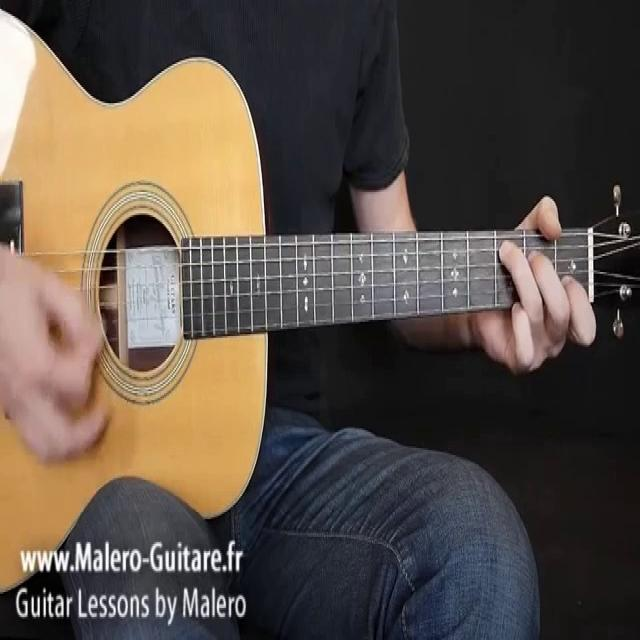Guitar: (9, 7, 636, 624)
